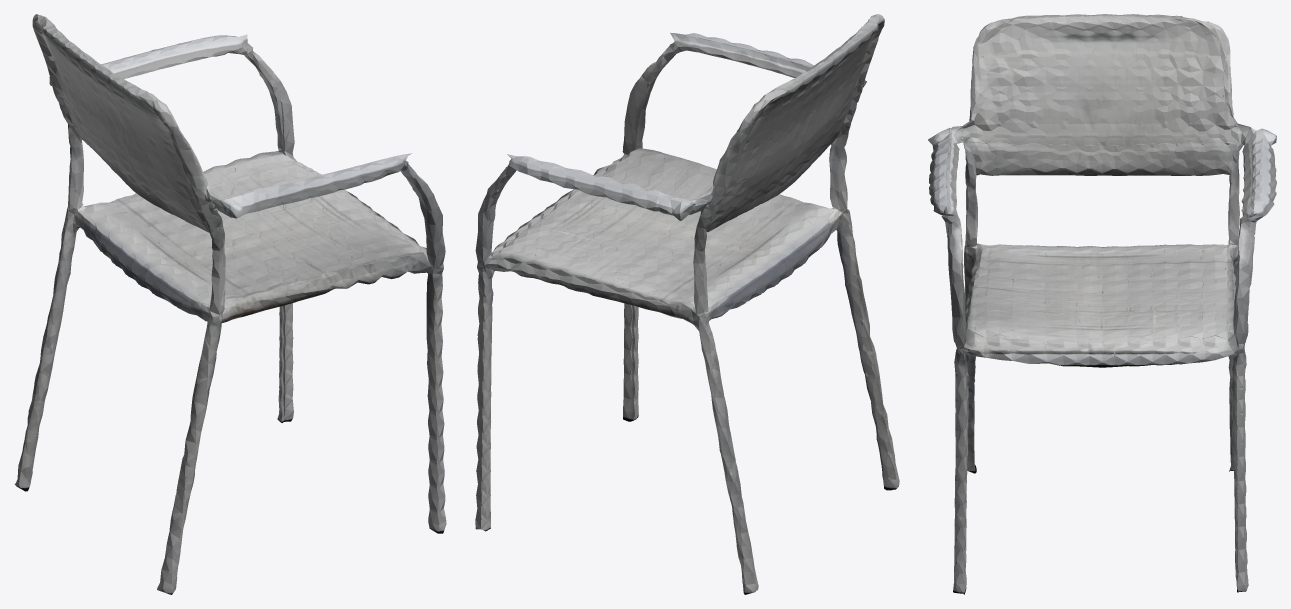
Rendered from elem_94_131_206_213_4_9.obj.
The picture shows the model from 3 angles, left to right: view 1: azimuth 30°, elevation 25°; view 2: azimuth 150°, elevation 25°; view 3: azimuth 270°, elevation 25°; orthographic projection. The views are drawn at different scales.
Size of the model in its own units: 0.4549 by 0.7093 by 0.4948.
1 material, 1 textured.
